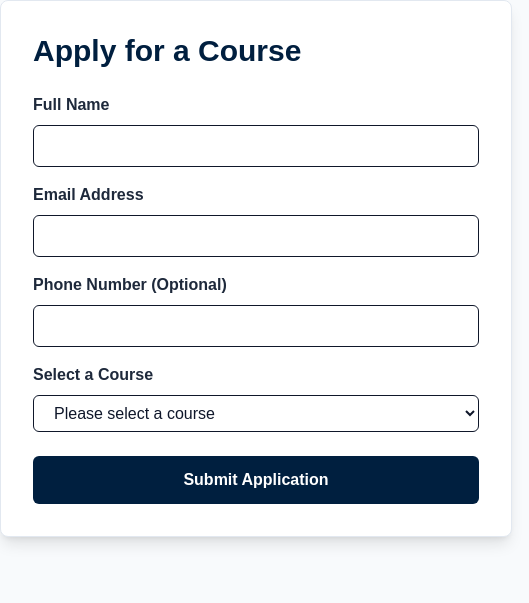
StudentForm › submits the form with correct data
In the field labelled "Full Name": (256, 146) [33,125,479,167], type "John Doe"
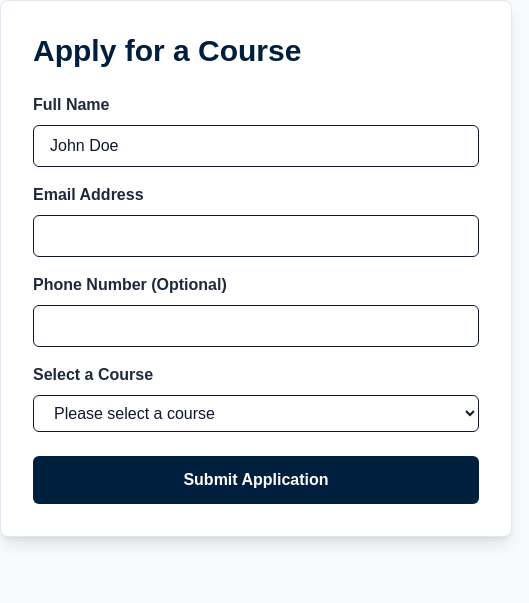
In the field labelled "Email Address": (256, 236) [33,215,479,257], type "john.doe@example.com"
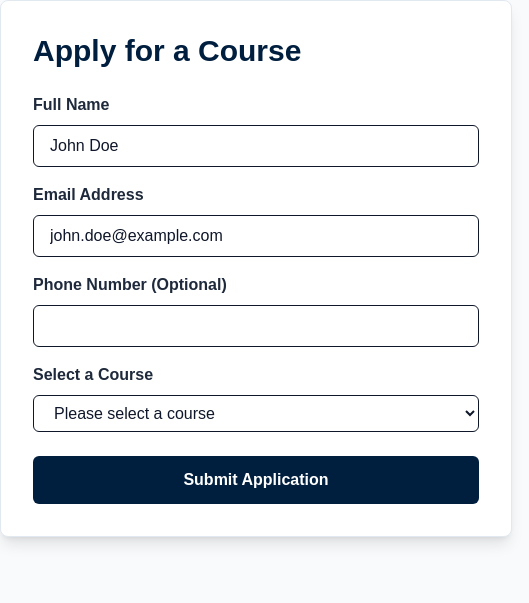
In the field labelled "Phone Number (Optional)": (256, 326) [33,305,479,347], type "1234567890"
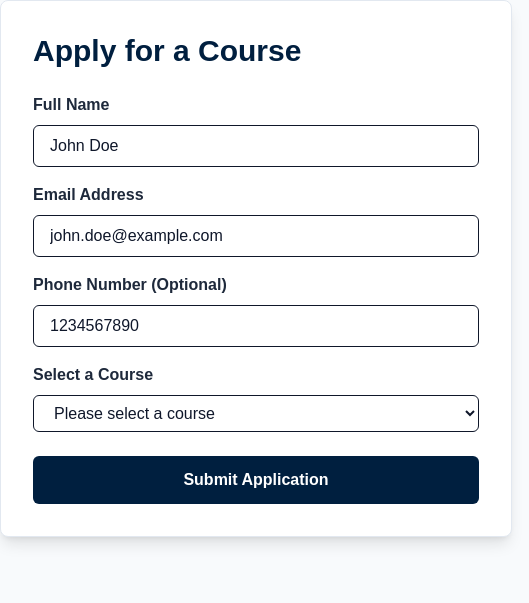
Select "Test Course" in the dropdown labelled "Select a Course": (256, 414) [33,395,479,432]
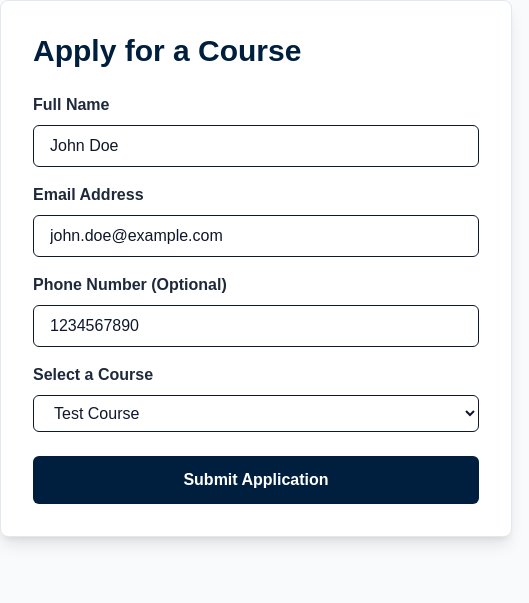
Submit the form with test id "student-form"
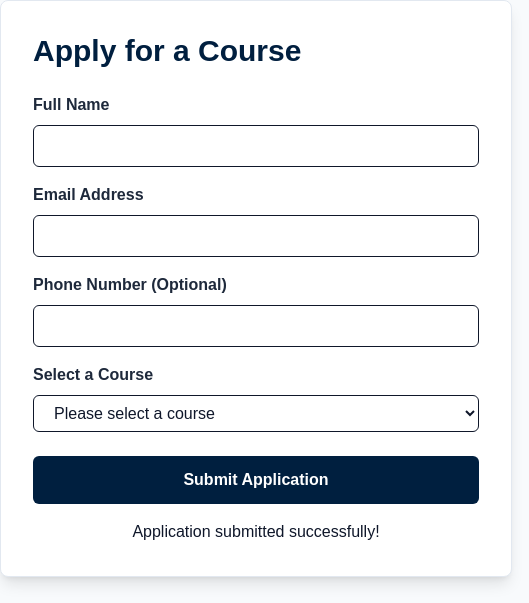
Check: the text "Application submitted successfully!" is shown, box [132,523,380,540]
